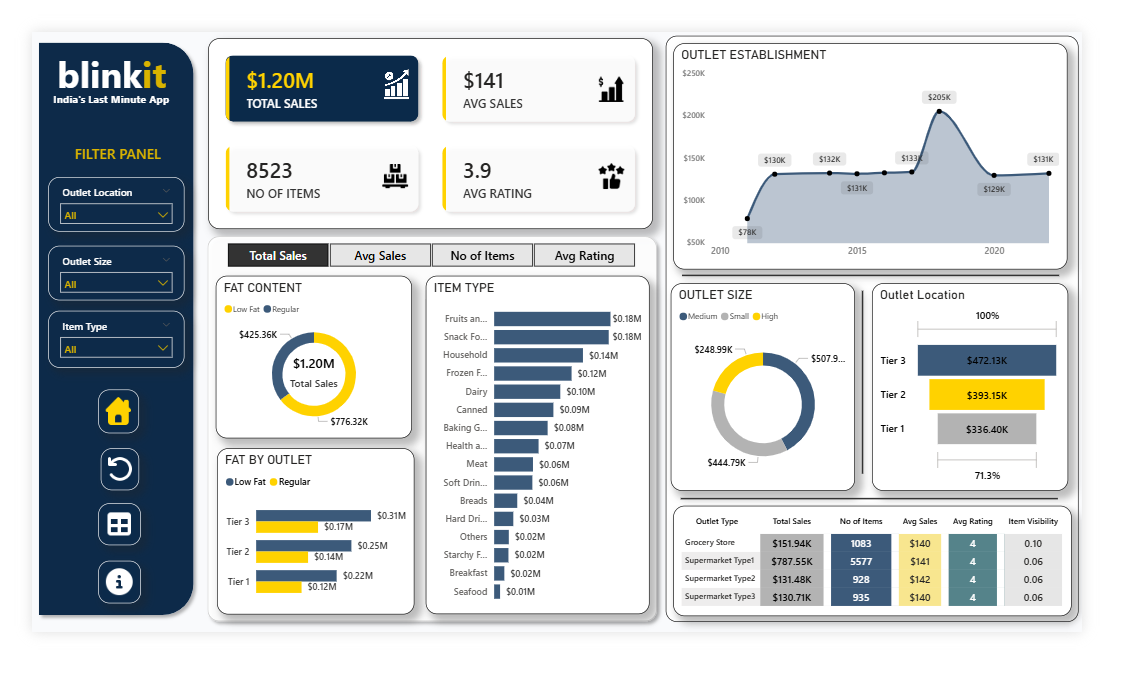

The dashboard page shown, as its layout file describes it:
{"tool":"powerbi","page":{"name":"DASHBOARD","canvas":[1400,800],"ordinal":1},"visuals":[{"type":"shape","box":[0,5.7,224.3,781.4],"z":0},{"type":"textbox","box":[4.3,18.6,202.9,75.7],"z":1000},{"type":"textbox","box":[17.1,75.7,178.6,28.6],"z":2000},{"type":"cardVisual","fields":{"Data":["BlinkIT Grocery Data.Total Sales","BlinkIT Grocery Data.Avg Sales","BlinkIT Grocery Data.No of Items","BlinkIT Grocery Data.Avg Rating"]},"box":[235.7,8.6,592.9,254.3],"z":3000},{"type":"shape","box":[224.3,262.9,617.1,531.4],"z":4000},{"type":"donutChart","title":"FAT CONTENT","fields":{"Y":["BlinkIT Grocery Data.Total Sales"],"Category":["BlinkIT Grocery Data.Item Fat Content"]},"box":[245.7,324.3,261.4,217.1],"z":5000},{"type":"slicer","fields":{"Values":["Parameter.Parameter"]},"box":[235.7,274.3,592.9,41.4],"z":6000},{"type":"card","fields":{"Values":["BlinkIT Grocery Data.Total Sales"]},"box":[331.4,421.4,88.6,61.4],"z":7000},{"type":"clusteredBarChart","title":"FAT BY OUTLET","fields":{"Y":["BlinkIT Grocery Data.Total Sales"],"Category":["BlinkIT Grocery Data.Outlet Location Type"],"Series":["BlinkIT Grocery Data.Item Fat Content"]},"box":[247.1,554.3,262.9,221.4],"z":8000},{"type":"shape","box":[511.4,357.1,28.6,400],"z":10000},{"type":"barChart","title":"ITEM TYPE","fields":{"Y":["BlinkIT Grocery Data.Total Sales"],"Category":["BlinkIT Grocery Data.Item Type"]},"box":[525.7,324.3,298.6,451.4],"z":11000},{"type":"shape","box":[844.3,5.7,550,781.4],"z":12000},{"type":"lineChart","title":"OUTLET ESTABLISHMENT","fields":{"Category":["BlinkIT Grocery Data.Outlet Establishment Year"],"Y":["BlinkIT Grocery Data.Total Sales"]},"box":[855.7,14.3,525.7,301.4],"z":13000},{"type":"shape","box":[867.1,317.1,502.9,15.7],"z":14000},{"type":"donutChart","title":"OUTLET SIZE","fields":{"Y":["BlinkIT Grocery Data.Total Sales"],"Category":["BlinkIT Grocery Data.Outlet Size"]},"box":[851.4,334.7,245.7,277.1],"z":15000},{"type":"shape","box":[1097.1,345.7,21.4,244.3],"z":16000},{"type":"funnel","title":"Outlet Location","fields":{"Y":["BlinkIT Grocery Data.Total Sales"],"Category":["BlinkIT Grocery Data.Outlet Location Type"]},"box":[1120,334.3,261.4,277.1],"z":17000},{"type":"shape","box":[865.2,614.8,502.9,14.3],"z":18000},{"type":"pivotTable","title":"OUTLET TYPE","fields":{"Rows":["BlinkIT Grocery Data.Outlet Type"],"Values":["BlinkIT Grocery Data.Total Sales","BlinkIT Grocery Data.No of Items","BlinkIT Grocery Data.Avg Sales","BlinkIT Grocery Data.Avg Rating","Avg(BlinkIT Grocery Data.Item Visibility)"]},"box":[854.3,631.4,531.4,147.1],"z":19000},{"type":"slicer","fields":{"Values":["BlinkIT Grocery Data.Outlet Location Type"]},"box":[21.3,193.9,181.4,72.9],"z":20000},{"type":"slicer","fields":{"Values":["BlinkIT Grocery Data.Outlet Size"]},"box":[21.4,284.3,181.4,72.9],"z":21000},{"type":"slicer","fields":{"Values":["BlinkIT Grocery Data.Item Type"]},"box":[21.4,371.4,181.4,75.7],"z":22000},{"type":"textbox","box":[25.7,144.3,178.6,35.7],"z":23000},{"type":"actionButton","box":[88.6,477.1,54.3,58.6],"z":24000},{"type":"actionButton","box":[91.4,554.3,51.4,55.7],"z":25000},{"type":"actionButton","box":[88.6,628.6,57.1,55.7],"z":26000},{"type":"actionButton","box":[88.6,704.3,57.1,57.1],"z":27000},{"type":"image","box":[457.1,47.1,61.4,47.1],"z":28000},{"type":"image","box":[744.3,58.6,54.3,35.7],"z":29000},{"type":"image","box":[457.1,175.7,55.7,34.3],"z":30000},{"type":"image","box":[744.3,175.7,55.7,34.3],"z":31000}]}

Visuals, with their boxes on the page's 1400x800 design canvas (x1, y1, x2, y2). These are canvas units, not pixel positions in the 1127x674 screenshot, which may show the page scaled, cropped or inside an application window:
shape: 0/6/224/787
textbox: 4/19/207/94
textbox: 17/76/196/104
cardVisual - BlinkIT Grocery Data.Total Sales x BlinkIT Grocery Data.Avg Sales: 236/9/829/263
shape: 224/263/841/794
"FAT CONTENT" donutChart: 246/324/507/541
slicer - Parameter.Parameter: 236/274/829/316
card - BlinkIT Grocery Data.Total Sales: 331/421/420/483
"FAT BY OUTLET" clusteredBarChart: 247/554/510/776
shape: 511/357/540/757
"ITEM TYPE" barChart: 526/324/824/776
shape: 844/6/1394/787
"OUTLET ESTABLISHMENT" lineChart: 856/14/1381/316
shape: 867/317/1370/333
"OUTLET SIZE" donutChart: 851/335/1097/612
shape: 1097/346/1118/590
"Outlet Location" funnel: 1120/334/1381/611
shape: 865/615/1368/629
"OUTLET TYPE" pivotTable: 854/631/1386/778
slicer - BlinkIT Grocery Data.Outlet Location Type: 21/194/203/267
slicer - BlinkIT Grocery Data.Outlet Size: 21/284/203/357
slicer - BlinkIT Grocery Data.Item Type: 21/371/203/447
textbox: 26/144/204/180
actionButton: 89/477/143/536
actionButton: 91/554/143/610
actionButton: 89/629/146/684
actionButton: 89/704/146/761
image: 457/47/518/94
image: 744/59/799/94
image: 457/176/513/210
image: 744/176/800/210
